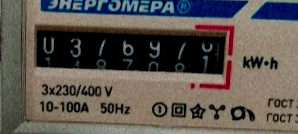0: (39, 30, 53, 53)
1: (196, 51, 209, 71)
3: (65, 34, 81, 56)
6: (118, 31, 133, 55)
7: (90, 32, 106, 55), (171, 36, 186, 59)
9: (143, 34, 159, 57)
screen: (22, 13, 234, 91)
